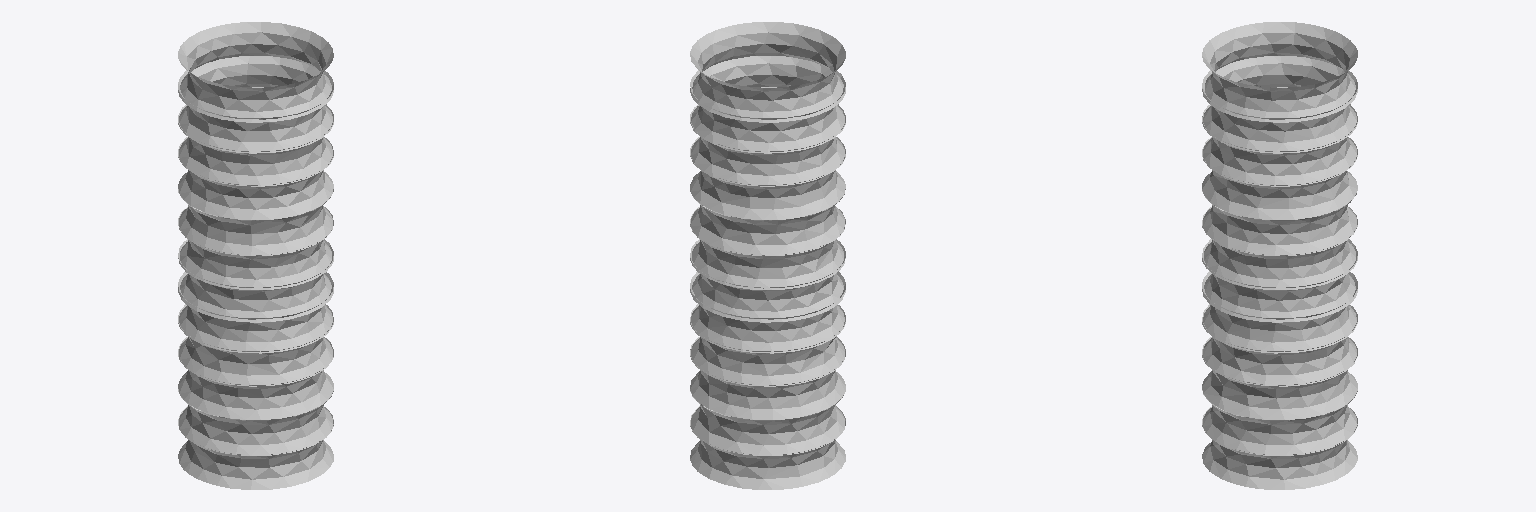
The model's file is Throat.obj.
3 views of the same model, side by side, from view 1: azimuth 30°, elevation 25°; view 2: azimuth 150°, elevation 25°; view 3: azimuth 270°, elevation 25° (orthographic).
Parts seen in each view (by area): view 1: Torus.004; view 2: Torus.004; view 3: Torus.004.
Boxes of the visible parts, x1,y1,x2,y2 form: Torus.004: [178, 22, 333, 489]; Torus.004: [690, 22, 845, 489]; Torus.004: [1202, 22, 1357, 489].
Size of the model in its own units: 5.4 by 15.34 by 5.4.